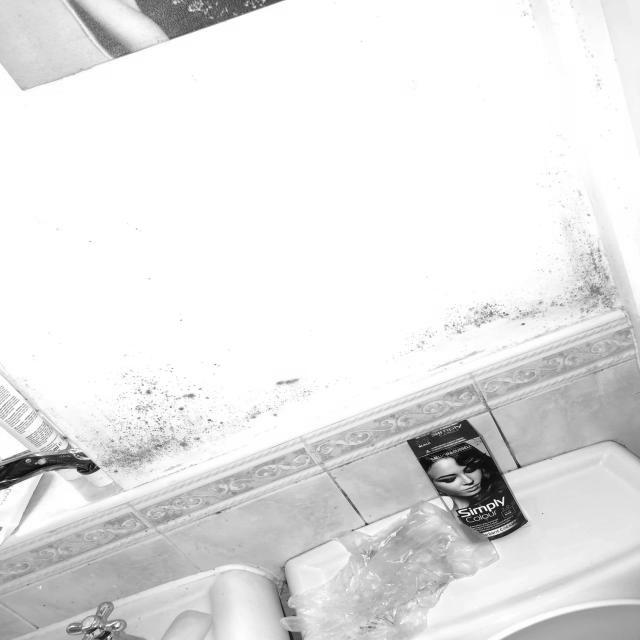stain marks: (406, 164, 630, 368), (68, 360, 342, 495), (544, 0, 626, 107)
